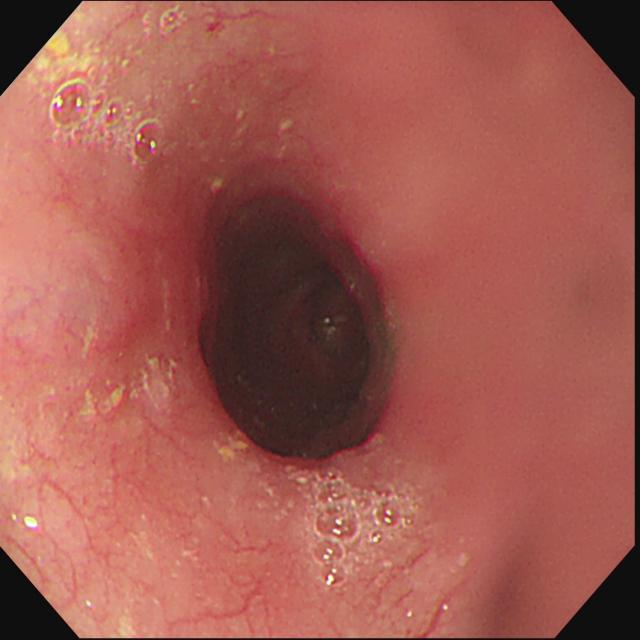E: (225, 224, 377, 425)
J: (80, 357, 178, 421), (213, 429, 251, 465)
T: (292, 465, 423, 591), (42, 80, 166, 171)
